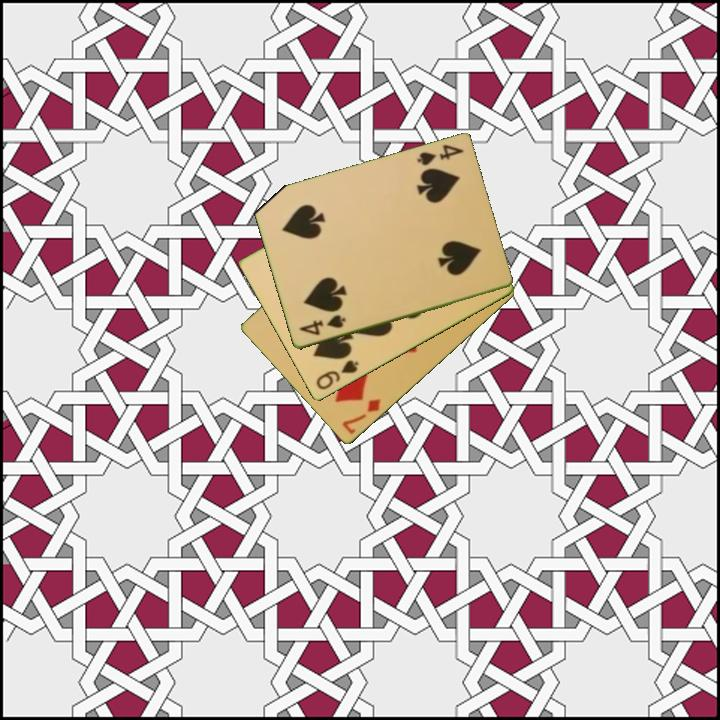4s: (295, 311, 348, 339), (413, 141, 466, 169)
7d: (339, 395, 384, 437)
9s: (312, 357, 361, 393)
